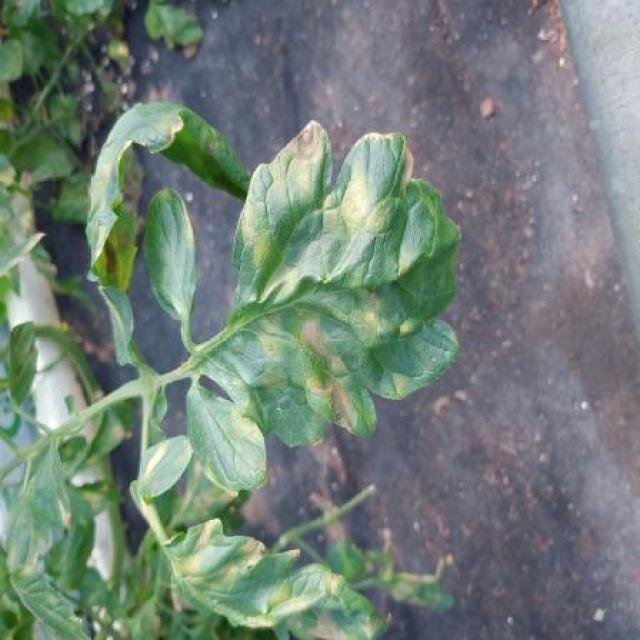Leaf Mold: (206, 116, 464, 444), (149, 511, 390, 640)
